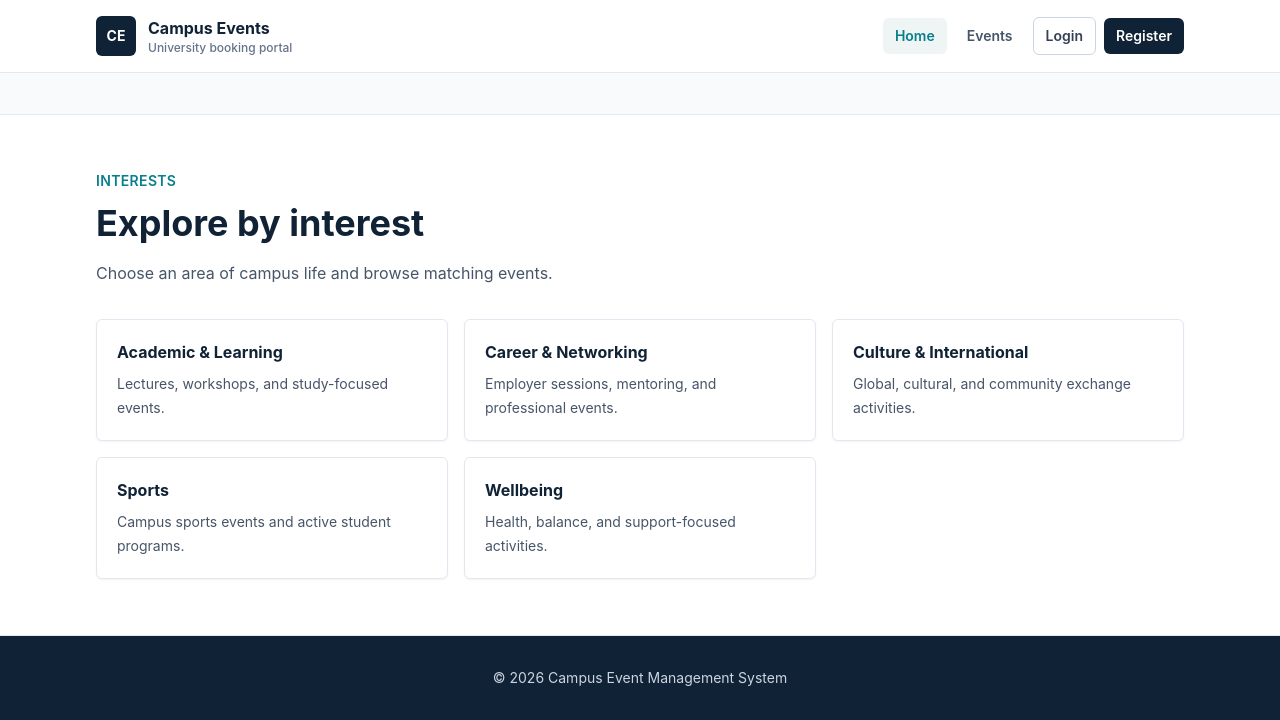
it: Home page role-aware behavior › navigates from Explore by interest to Events with the category selected
This screenshot has width=1280, height=720.
(page scrolled)
Step 1. Click the link "Academic & Learning" → (272, 380), box [96,319,448,441]
(page scrolled)
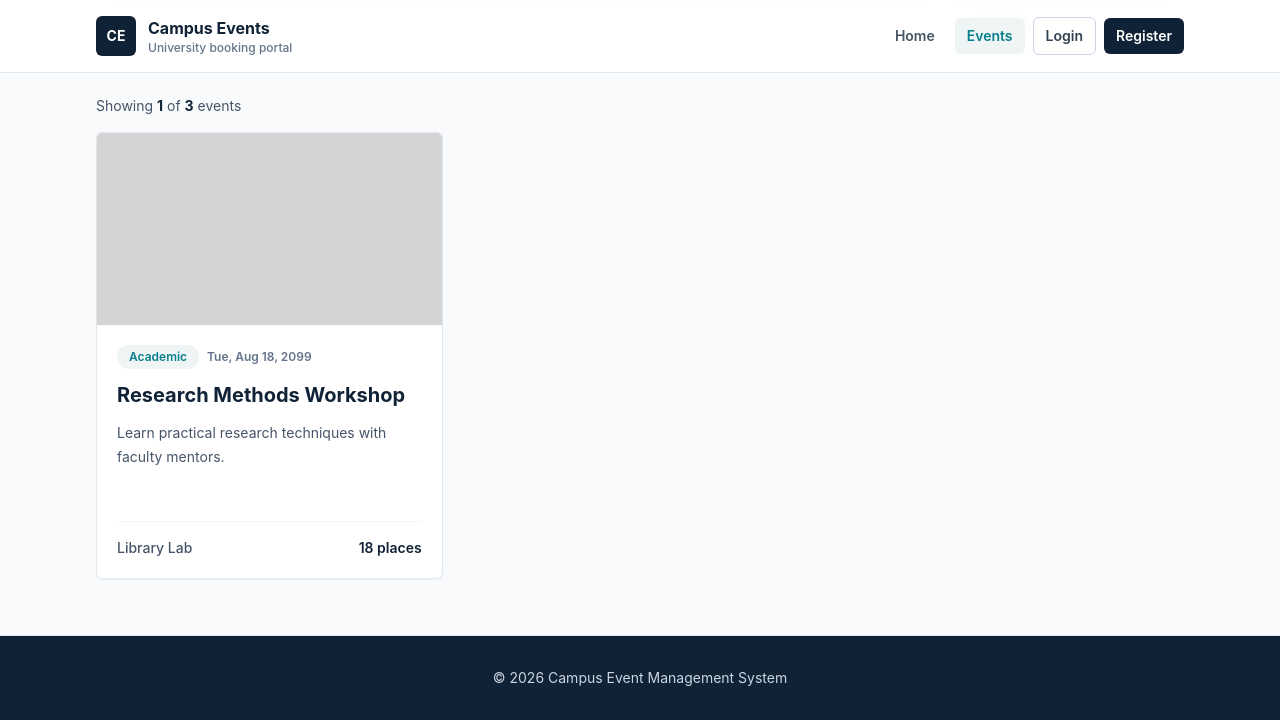
Check: the link "Research Methods Workshop" is shown, box [117,383,405,407]
Check: the dropdown labelled "Category" shows "Academic", box [947,1,1167,46]
